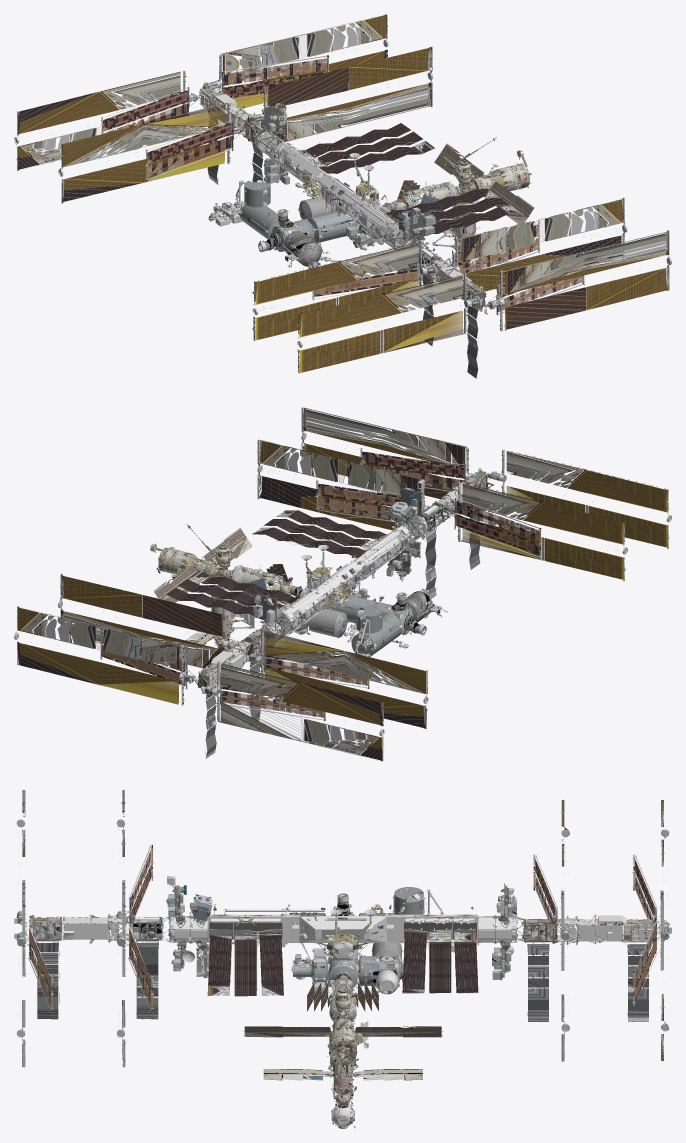
The model's file is iss.glb.
3 renders of one model, top to bottom at view 1: azimuth 30°, elevation 25°; view 2: azimuth 150°, elevation 25°; view 3: azimuth 270°, elevation 25°, orthographic. The views are drawn at different scales.
Parts seen in each view (by area): view 1: Payload_MISSE_FF, IROSA_Deployed_P44A, Airlock, MLM_Details_Camera, USLab, Columbus, JEM_PM, Zarya_FGB, MLM, JEM_PS, PMM; view 2: Payload_MISSE_FF, IROSA_Deployed_P44A, Airlock, MLM_Details_Camera, MLM, JEM_PM, PMM, Zarya_FGB, JEM_PS, Columbus, USLab; view 3: Payload_MISSE_FF, Airlock, IROSA_Deployed_P44A, MLM_Details_Camera, MLM, Node2, JEM_PS, Zarya_FGB, Node1.
Boxes of the visible parts, x1,y1,x2,y2 form: Payload_MISSE_FF: (14, 14, 671, 378); IROSA_Deployed_P44A: (101, 55, 584, 315); Airlock: (184, 81, 531, 309); MLM_Details_Camera: (397, 143, 534, 260); USLab: (307, 211, 356, 242); Columbus: (283, 231, 322, 266); JEM_PM: (239, 204, 278, 239); Zarya_FGB: (394, 182, 460, 210); MLM: (432, 202, 508, 265); JEM_PS: (244, 180, 270, 207); PMM: (299, 196, 336, 219); Payload_MISSE_FF: (14, 407, 671, 761); IROSA_Deployed_P44A: (100, 448, 541, 721); Airlock: (157, 471, 506, 695); MLM_Details_Camera: (150, 528, 287, 642); MLM: (182, 584, 255, 649); JEM_PM: (351, 613, 402, 656); PMM: (309, 608, 347, 637); Zarya_FGB: (226, 565, 292, 595); JEM_PS: (356, 605, 382, 633); Columbus: (406, 591, 432, 622); USLab: (329, 595, 377, 623); Payload_MISSE_FF: (16, 790, 669, 1076); Airlock: (14, 883, 671, 1063); IROSA_Deployed_P44A: (19, 844, 666, 1012); MLM_Details_Camera: (243, 981, 443, 1124); MLM: (263, 1021, 422, 1107); Node2: (331, 911, 402, 985); JEM_PS: (393, 887, 424, 914); Zarya_FGB: (307, 970, 379, 1022); Node1: (328, 958, 357, 987).
Bounding box in the file's own units: 7.45 × 3.11 × 10.09.
42 materials, 40 textured.
